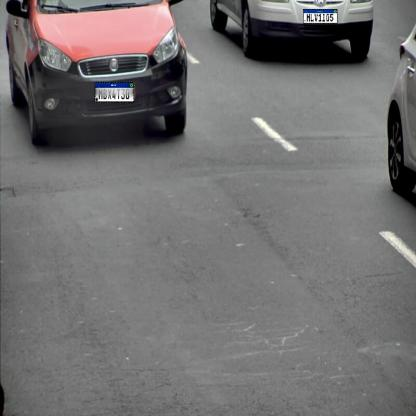PlacaM: (95, 82, 134, 102), (303, 9, 338, 24)
